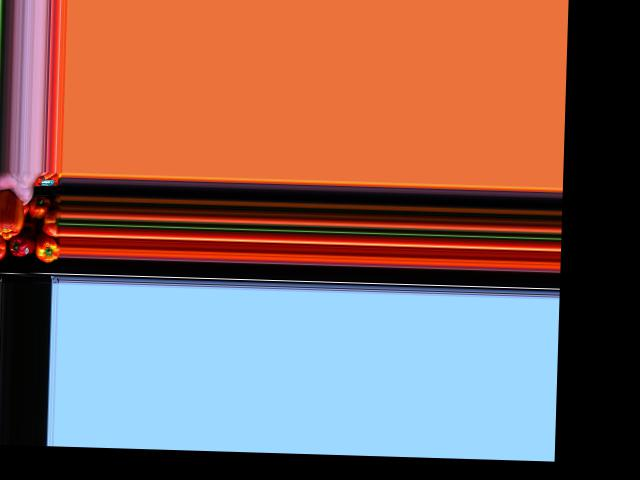bell_pepper: (26, 198, 53, 219)
